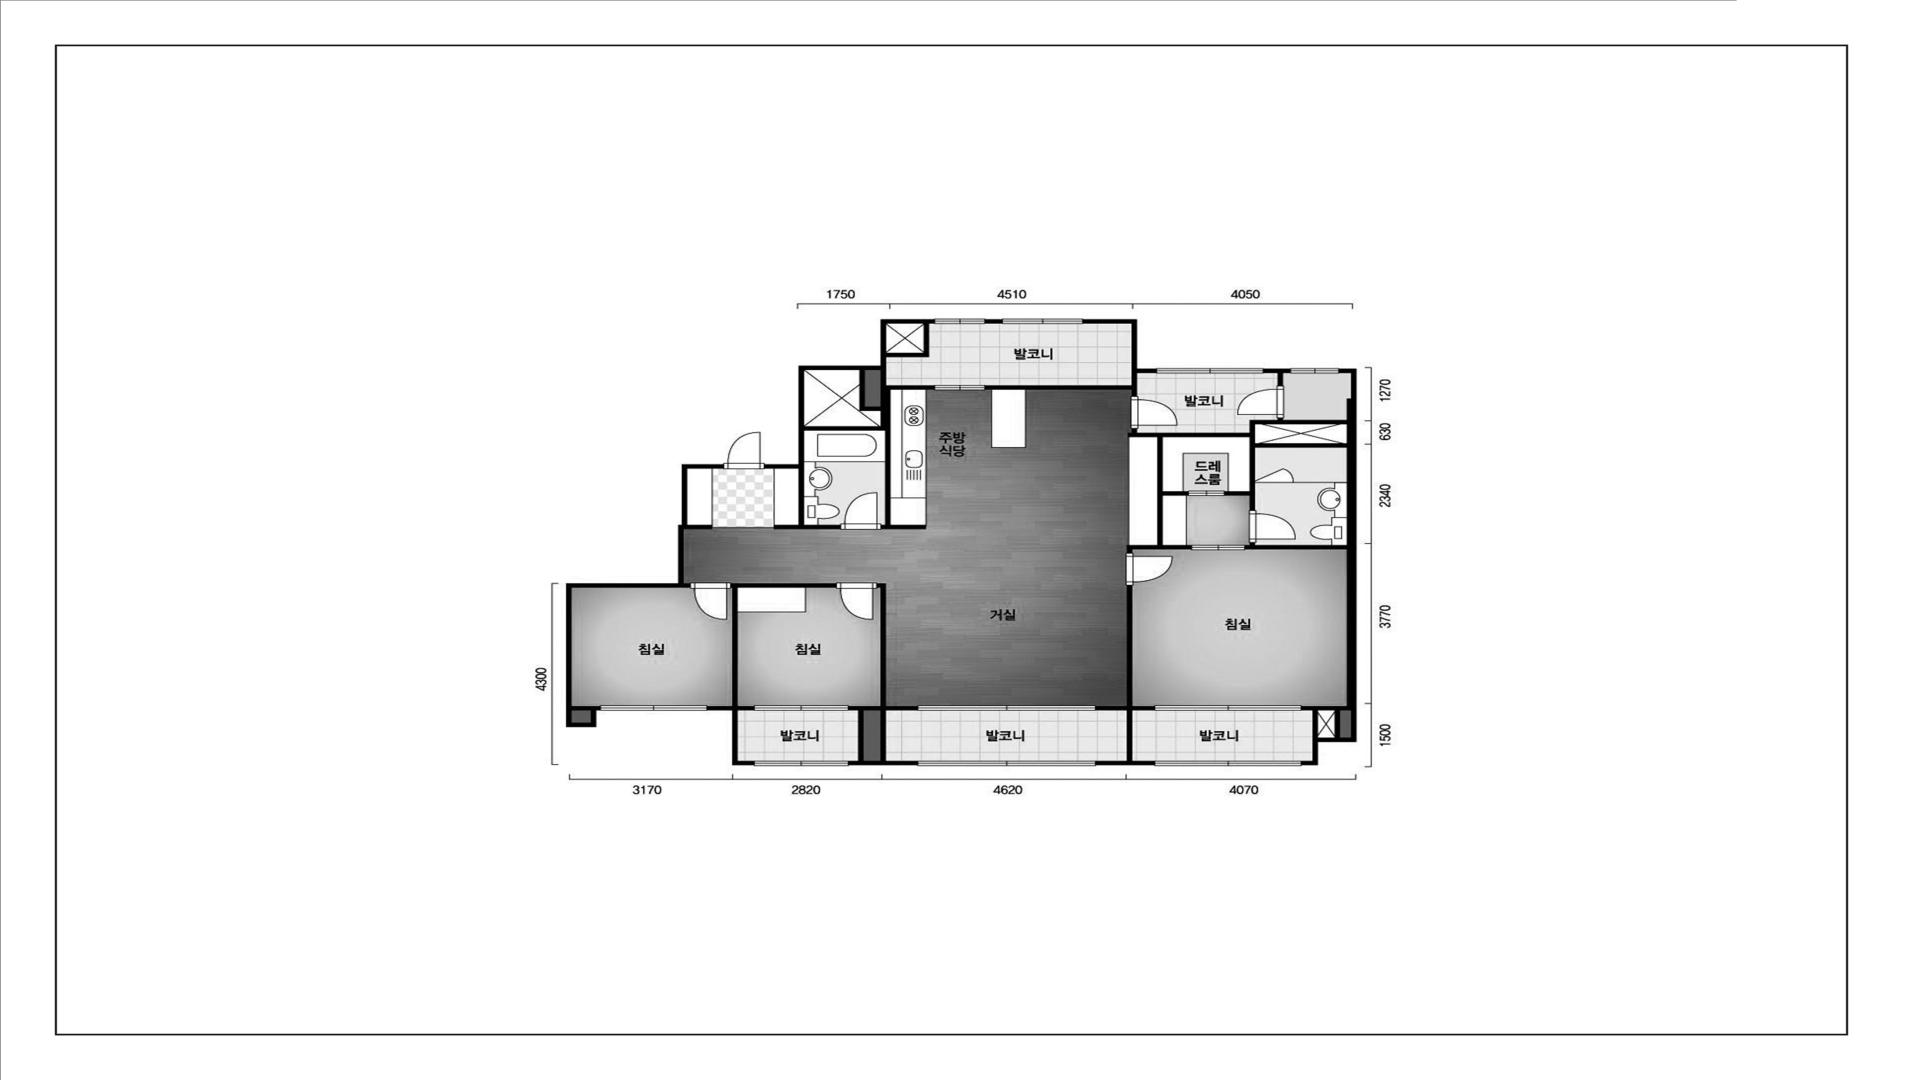background: (0, 0, 1920, 1080)
door: (1130, 396, 1178, 429), (1236, 385, 1283, 418), (1249, 510, 1296, 543), (841, 492, 881, 530), (724, 431, 764, 469), (836, 583, 877, 620), (1126, 554, 1174, 585), (691, 583, 731, 620), (1255, 468, 1294, 483), (1192, 545, 1245, 550), (1188, 491, 1225, 496)
wall: (1346, 373, 1357, 742), (877, 583, 886, 761), (881, 385, 890, 525), (1126, 585, 1133, 761), (1127, 429, 1249, 436), (566, 583, 572, 705), (1156, 436, 1163, 545), (1245, 543, 1346, 550), (798, 365, 804, 464), (732, 588, 737, 705), (1126, 545, 1192, 554), (1255, 418, 1346, 425), (572, 583, 684, 588), (1249, 421, 1255, 510), (985, 385, 1131, 389), (731, 583, 836, 588), (804, 365, 886, 371), (678, 525, 684, 583), (798, 468, 804, 525), (1255, 443, 1346, 447), (682, 464, 687, 525), (804, 426, 881, 430), (732, 705, 737, 761), (848, 761, 918, 765), (774, 525, 841, 529), (1131, 323, 1137, 373), (858, 711, 864, 761), (881, 319, 886, 365), (1302, 705, 1346, 711), (1096, 761, 1155, 765), (860, 371, 865, 411), (1083, 319, 1137, 323), (1312, 737, 1350, 742), (886, 319, 935, 323), (566, 705, 600, 711), (881, 525, 926, 529), (890, 385, 935, 389), (886, 353, 928, 357), (886, 705, 918, 711), (848, 705, 880, 711), (764, 464, 804, 468), (687, 464, 724, 468), (1312, 711, 1317, 737), (1335, 711, 1340, 737), (1263, 368, 1290, 373), (707, 705, 732, 711), (1096, 705, 1126, 709), (924, 323, 928, 353), (1312, 742, 1317, 765), (1131, 373, 1137, 396), (683, 525, 712, 529), (1163, 492, 1188, 496), (1224, 492, 1249, 496), (1338, 368, 1357, 373), (737, 705, 754, 711), (732, 761, 754, 765), (1133, 705, 1154, 709), (865, 406, 881, 411), (1137, 369, 1156, 373), (881, 371, 886, 385), (1278, 373, 1283, 386), (985, 319, 1002, 323), (1302, 761, 1312, 765)
window: (918, 705, 1096, 711), (918, 761, 1096, 766), (1154, 705, 1302, 711), (1155, 761, 1302, 766), (1156, 368, 1263, 373), (600, 705, 707, 711), (754, 705, 848, 711), (754, 761, 848, 766), (1002, 319, 1083, 323), (935, 385, 985, 390), (1290, 368, 1338, 373), (935, 319, 985, 323)
